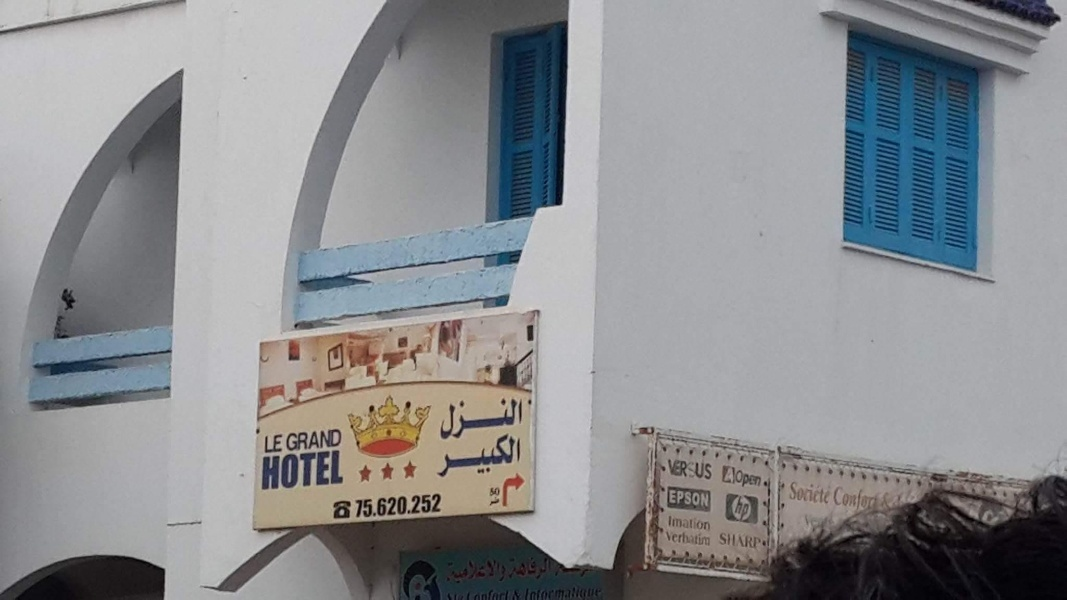text: (449, 431, 464, 480), (465, 431, 480, 480), (481, 431, 496, 480), (497, 431, 512, 480), (449, 395, 464, 442), (465, 395, 480, 442), (481, 395, 496, 442), (497, 395, 512, 442), (513, 395, 527, 442), (273, 449, 288, 492), (289, 449, 304, 492), (305, 449, 320, 492), (321, 449, 336, 492), (438, 431, 448, 480), (513, 431, 523, 480), (449, 557, 464, 589), (465, 557, 480, 589), (481, 557, 496, 589), (833, 484, 848, 514), (849, 484, 864, 514), (865, 484, 880, 514), (817, 480, 833, 506), (353, 493, 368, 519), (369, 493, 384, 519), (385, 493, 400, 519), (401, 493, 416, 519), (417, 493, 432, 519), (513, 556, 528, 582), (529, 556, 544, 582), (801, 480, 816, 506), (263, 449, 272, 492), (737, 495, 751, 522), (440, 395, 448, 442), (289, 428, 304, 453), (305, 428, 320, 453), (321, 428, 336, 453), (737, 466, 752, 491), (497, 557, 508, 589), (673, 458, 688, 481), (689, 458, 704, 481), (337, 449, 345, 492), (673, 528, 688, 550), (689, 528, 704, 550), (724, 466, 736, 491), (673, 489, 688, 508), (689, 489, 704, 508), (721, 532, 736, 551), (737, 532, 752, 551), (673, 514, 688, 531), (689, 514, 704, 531), (753, 466, 763, 491), (433, 493, 442, 519), (791, 480, 800, 506), (529, 585, 544, 600), (545, 585, 560, 600), (561, 585, 576, 600), (577, 585, 592, 600), (545, 556, 553, 582), (705, 458, 714, 481), (273, 434, 283, 454), (442, 557, 448, 589), (705, 528, 713, 550), (753, 532, 762, 551), (506, 556, 512, 582), (593, 585, 603, 600), (337, 428, 343, 453), (513, 589, 528, 599), (449, 589, 464, 599), (465, 589, 480, 599), (481, 589, 496, 599), (265, 434, 272, 454), (497, 589, 511, 599), (705, 489, 712, 508), (666, 528, 672, 550), (705, 514, 712, 531), (668, 458, 672, 481), (489, 487, 496, 497), (669, 489, 672, 508), (669, 514, 672, 531), (497, 487, 502, 497), (492, 496, 496, 508), (497, 496, 501, 508), (525, 585, 528, 600), (881, 484, 882, 514), (446, 589, 448, 599)
